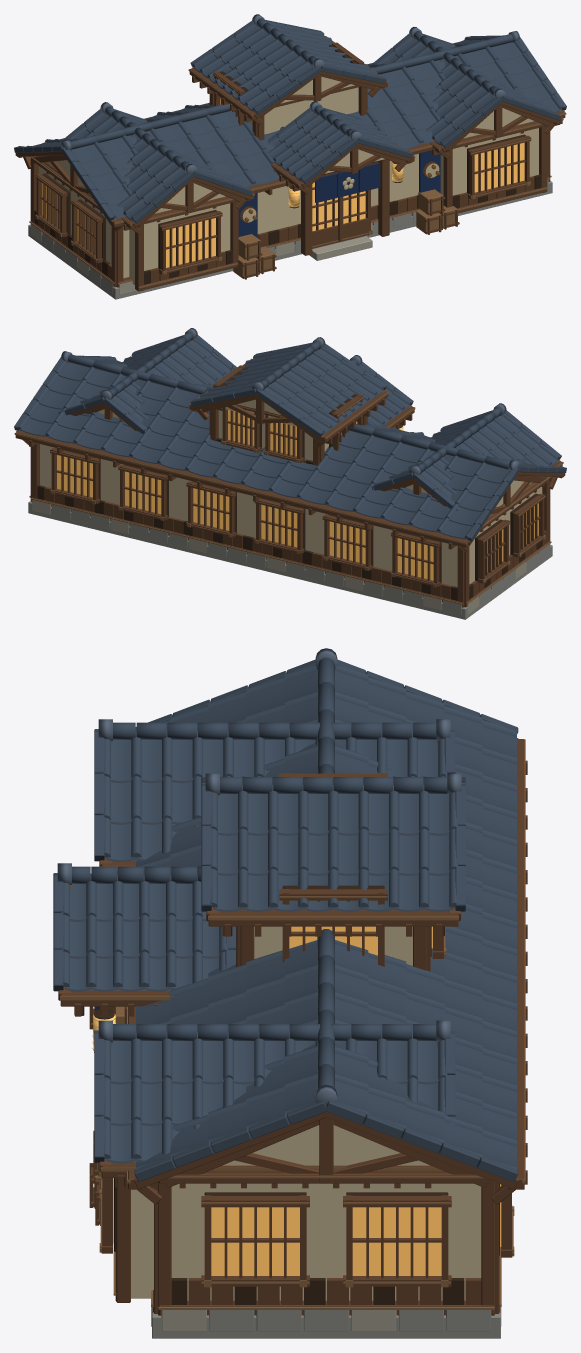
3 renders of one model, top to bottom at view 1: azimuth 30°, elevation 25°; view 2: azimuth 150°, elevation 25°; view 3: azimuth 270°, elevation 25°, orthographic. The views are drawn at different scales.
Parts seen in each view (by area): view 1: compact_finance_1_geometry, compact_finance_1_geometry ceramic; view 2: compact_finance_1_geometry ceramic, compact_finance_1_geometry; view 3: compact_finance_1_geometry ceramic, compact_finance_1_geometry.
Part boxes in pixels (x1=…): compact_finance_1_geometry: x1=15, y1=26, x2=566, y2=299; compact_finance_1_geometry ceramic: x1=14, y1=14, x2=566, y2=223; compact_finance_1_geometry ceramic: x1=14, y1=328, x2=566, y2=541; compact_finance_1_geometry: x1=14, y1=340, x2=565, y2=619; compact_finance_1_geometry ceramic: x1=53, y1=648, x2=518, y2=1181; compact_finance_1_geometry: x1=58, y1=738, x2=527, y2=1338.
Size of the model in its own units: 2.27 by 0.8332 by 1.02.
